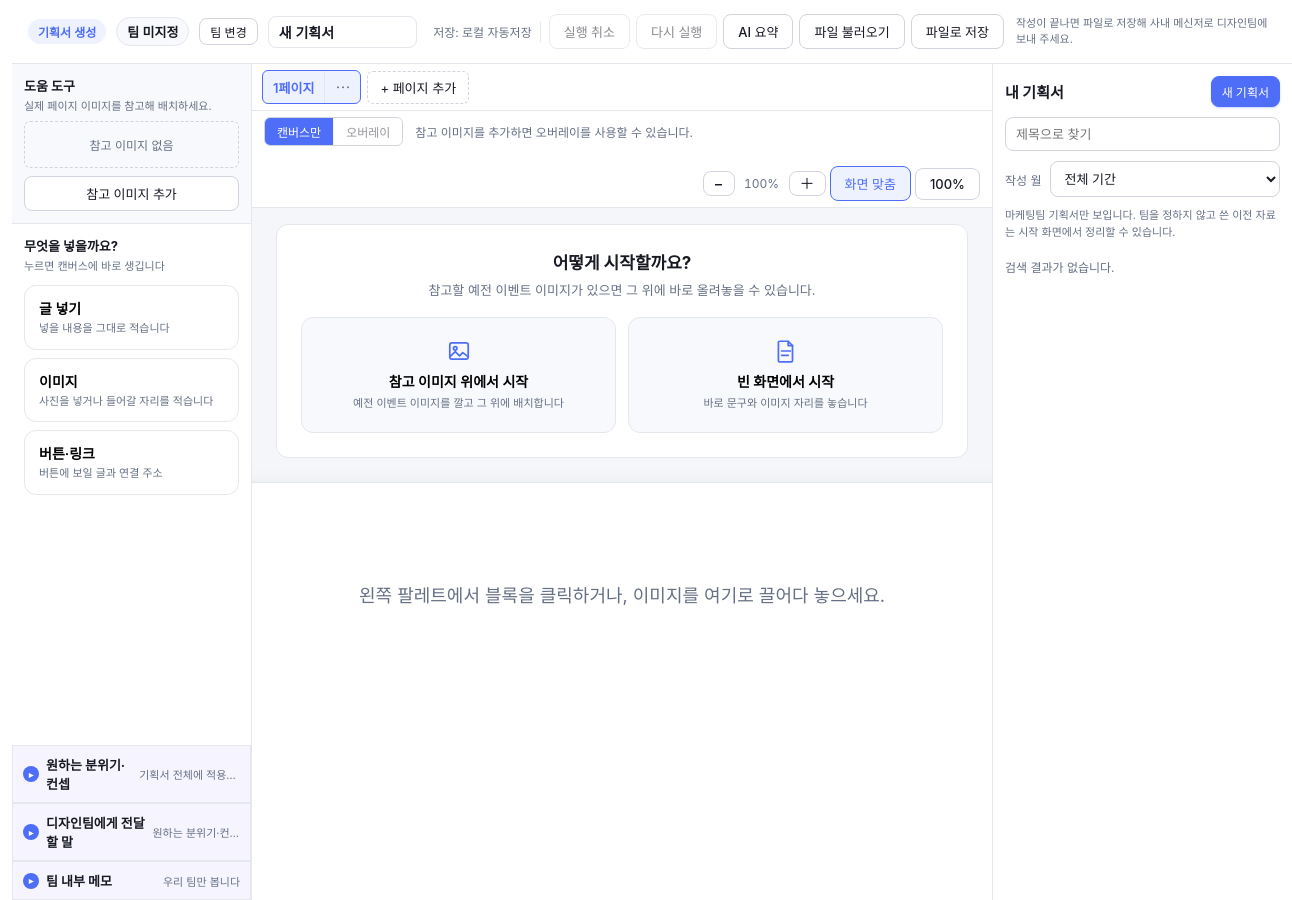
Test: Patch 2 §12 작성기에서는 여전히 설명부터 › opens the description editor on an empty image block
# 팔레트에서 이미지 자리 하나를 놓는다.
Click the button "이미지 사진을 넣거나 들어갈 자리를 적습니다".
click(132, 390)  # box [24,358,239,422]
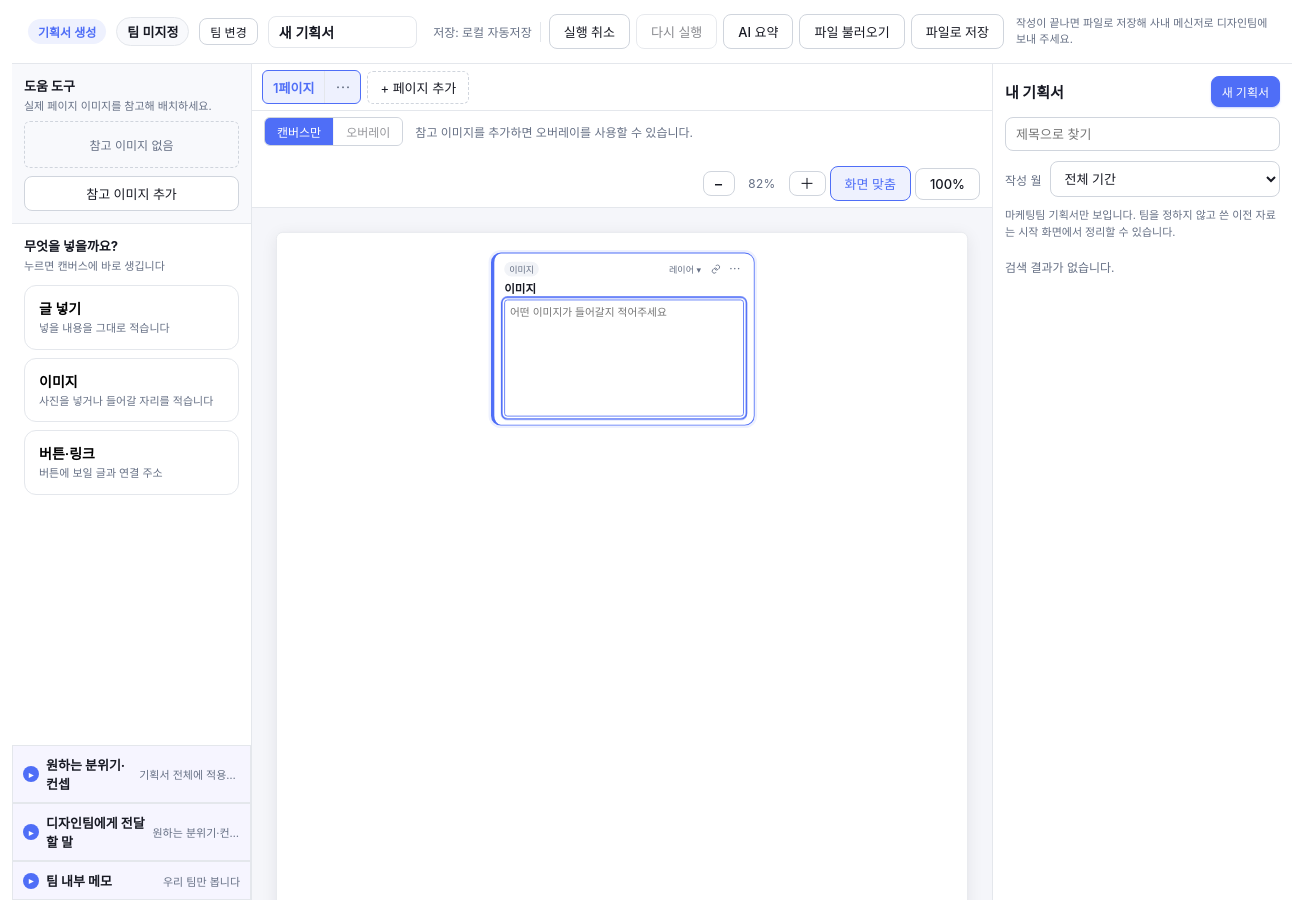
Result: the button with class "block-card" is shown at [491,253,755,426]
Press Escape in the text box with placeholder "어떤 이미지가 들어갈지 적어주세요", box [504,300,744,417]
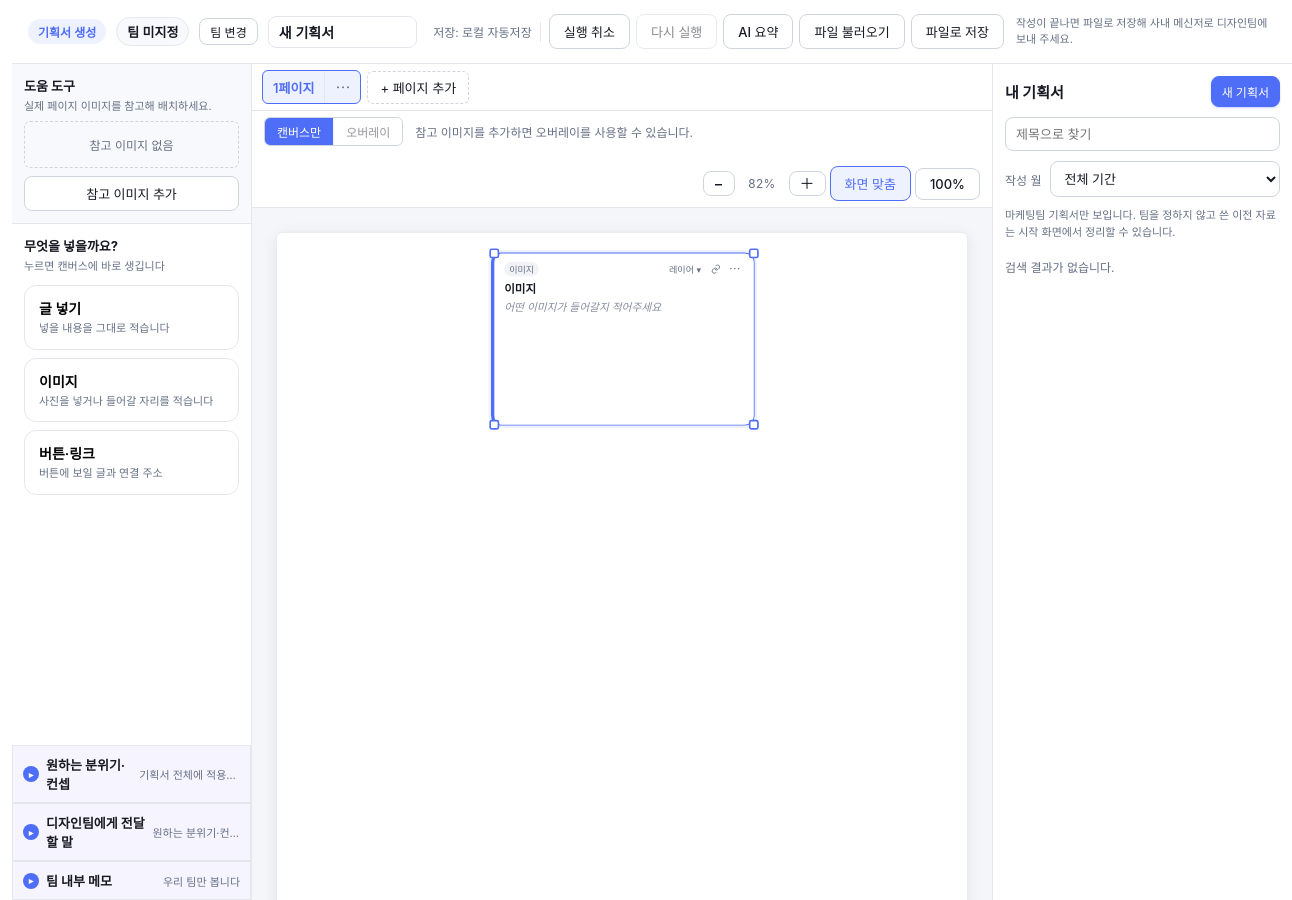
Result: the text box is gone
Double-click the button with class "block-card".
double_click(522, 269)  # box [491,253,755,426]
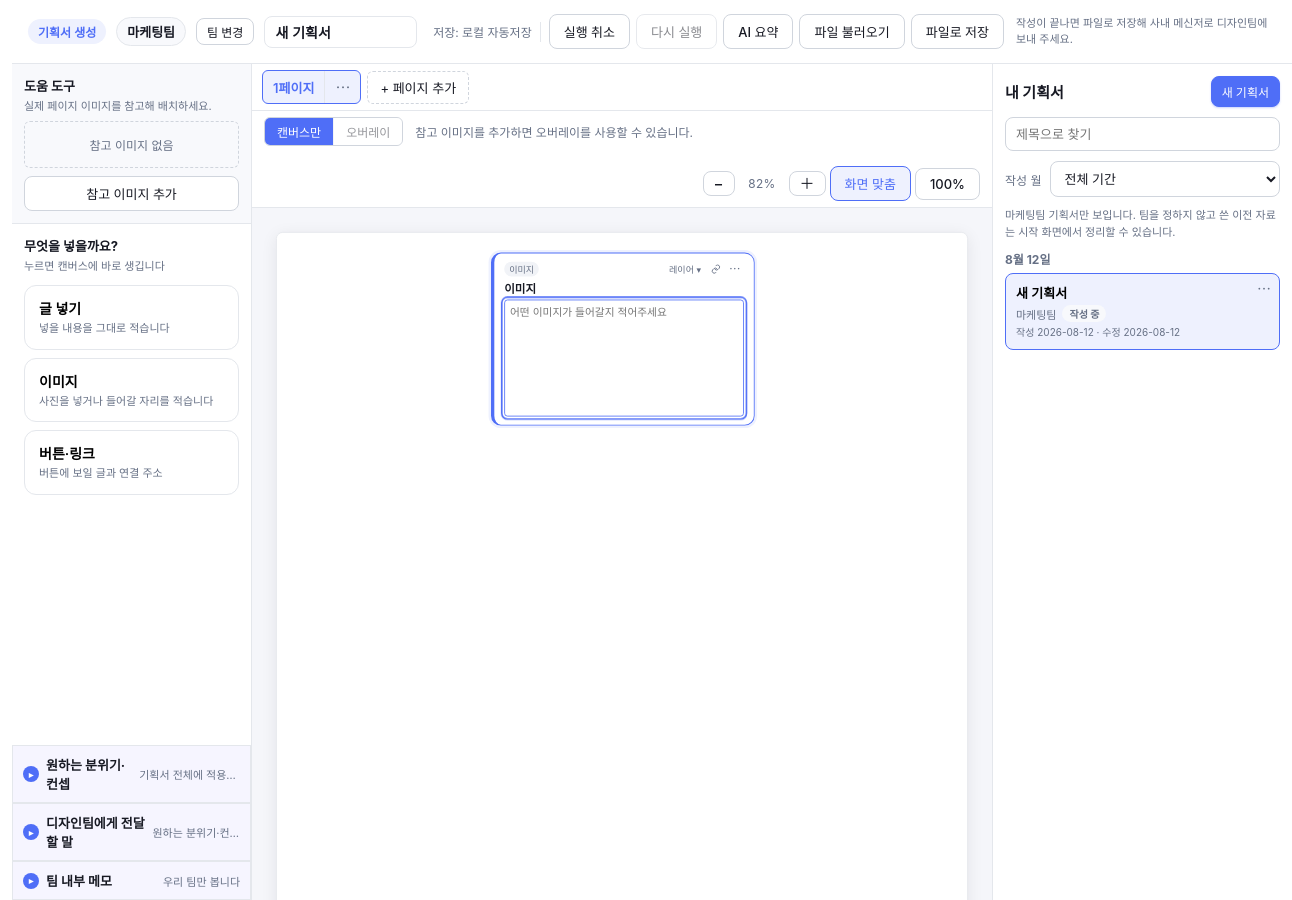
Result: the text box with placeholder "어떤 이미지가 들어갈지 적어주세요" is shown at [504,300,744,417]
